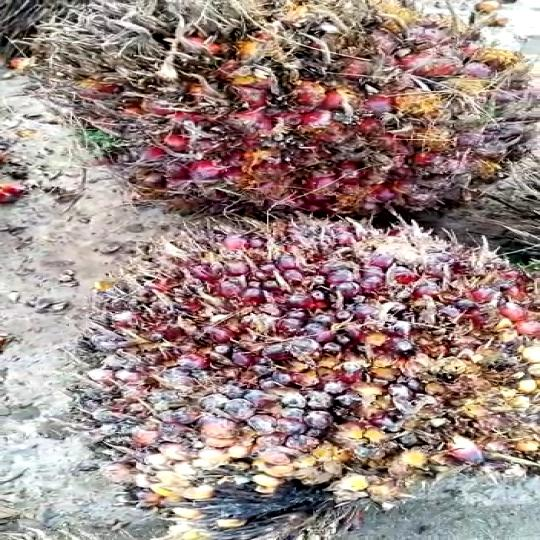masak: (84, 225, 540, 540), (0, 0, 540, 224)
